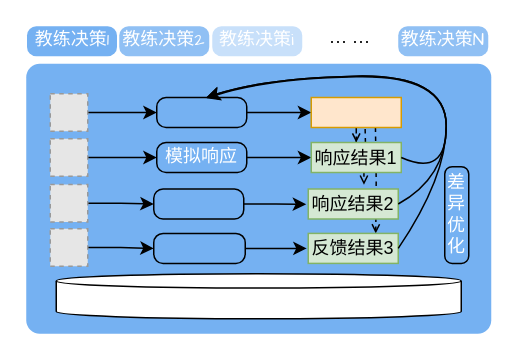
Some shapes in this 516 by 359 pixel diagram are drawn without their labels. Grey dashed boxes stand in for pictures. The centre of each missing label's shape, as x and y in pixels:
决策算法: the point at 201,112
决策结果: the point at 355,112
教练决策: the point at 198,247
用户响应: the point at 198,203
轨迹数据集合: the point at 258,295
